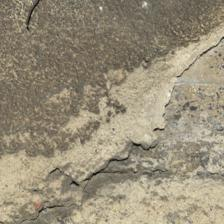Crack: (0, 0, 146, 212), (135, 29, 194, 140), (44, 0, 91, 69)
